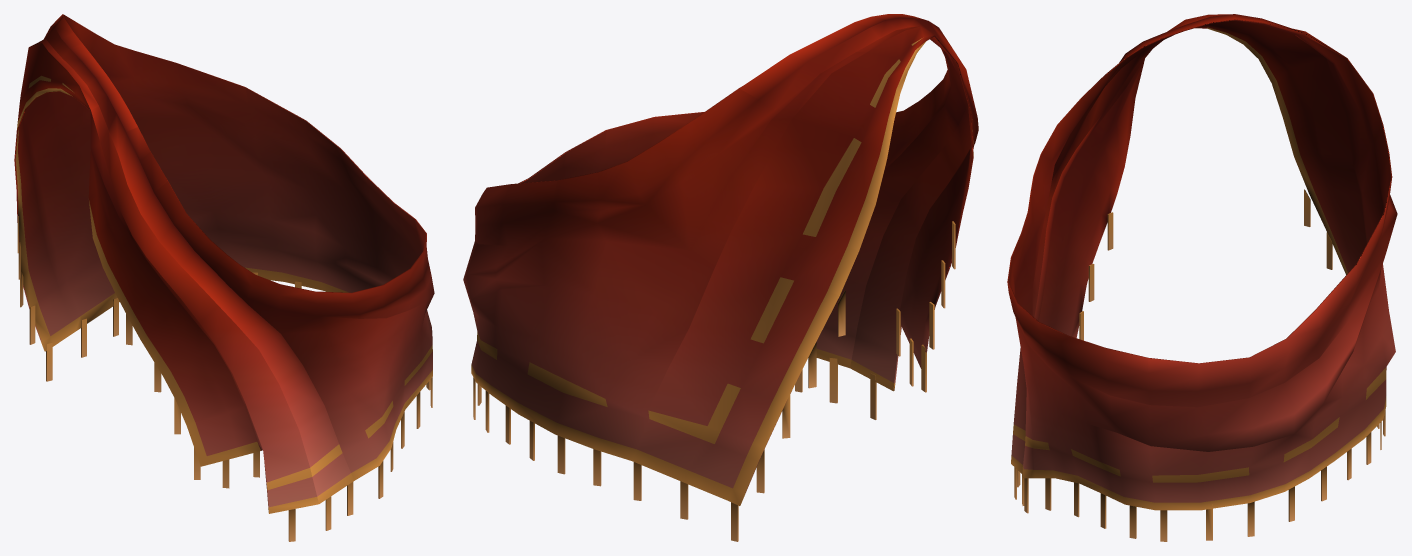
The model's file is Cloth_Poncho.gltf.
3 views of the same model, side by side, from view 1: azimuth 30°, elevation 25°; view 2: azimuth 150°, elevation 25°; view 3: azimuth 270°, elevation 25° (orthographic). The views are drawn at different scales.
Visible parts, largest first — view 1: Cloth_Poncho; view 2: Cloth_Poncho; view 3: Cloth_Poncho.
Boxes of the visible parts, box(x1,y1,x2,y2) form: Cloth_Poncho: box(14, 14, 434, 541); Cloth_Poncho: box(463, 14, 978, 541); Cloth_Poncho: box(1007, 14, 1397, 541).
Size of the model in its own units: 1.06 by 1.23 by 1.03.
Materials: 2 (2 with a texture image).
